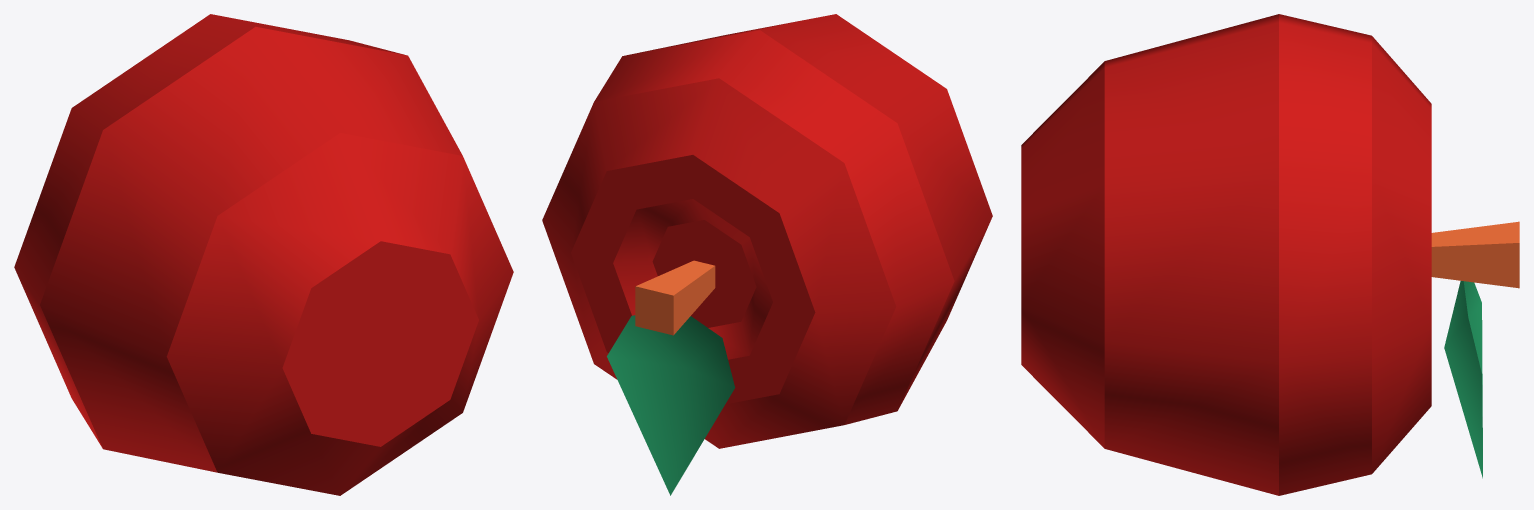
File: apple.001.obj
3 renders of one model, left to right at view 1: azimuth 30°, elevation 25°; view 2: azimuth 150°, elevation 25°; view 3: azimuth 270°, elevation 25°, orthographic. The views are drawn at different scales.
Visible parts, largest first — view 1: apple.017_apple.001; view 2: apple.017_apple.001; view 3: apple.017_apple.001.
Part boxes in pixels (x1=…): apple.017_apple.001: x1=14, y1=14, x2=513, y2=495; apple.017_apple.001: x1=542, y1=14, x2=992, y2=495; apple.017_apple.001: x1=1021, y1=14, x2=1519, y2=495.
Bounding box in the file's own units: 47.11 × 47.11 × 45.78.
